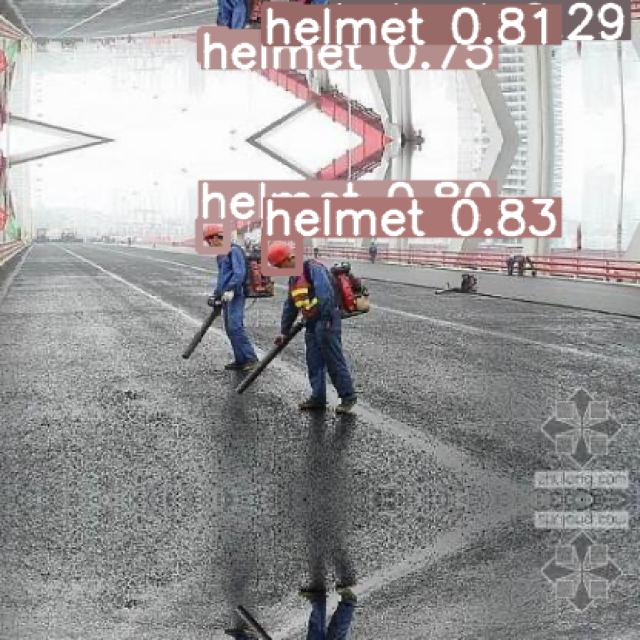helmet: (263, 4, 299, 42), (263, 236, 299, 271), (199, 219, 226, 250), (200, 29, 226, 60), (332, 0, 352, 22)
